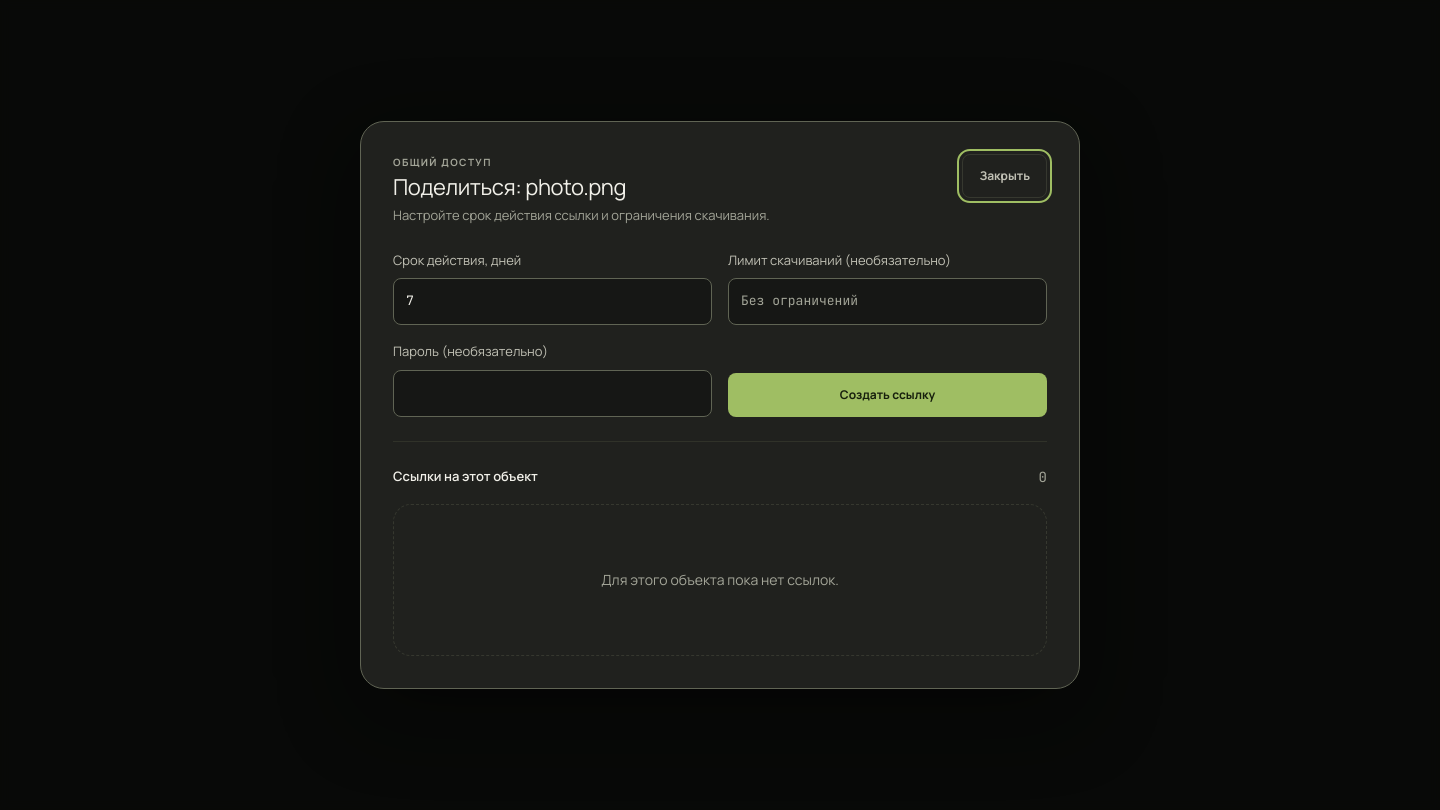
it: ShareDialog › creates a protected file share with exact policy fields and never renders the password
Expected: the text "Для этого объекта пока нет ссылок." is shown, [393,504,1047,656]
Replace the text in the number field labelled "Срок действия, дней" with "30" at (552, 302), box [393,278,712,325]
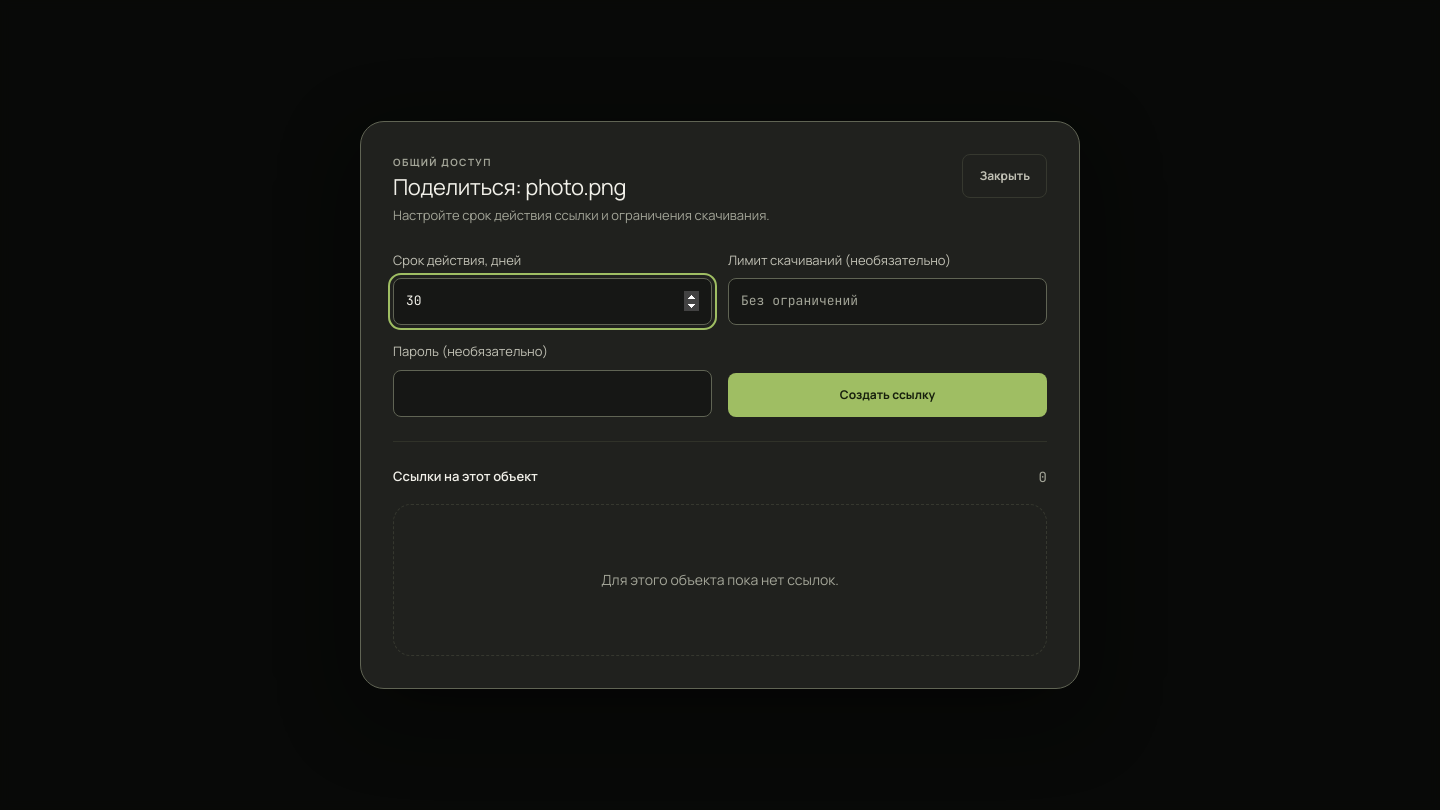
Type "4" into the number field labelled "Лимит скачиваний (необязательно)" at (888, 302), box [728,278,1047,325]
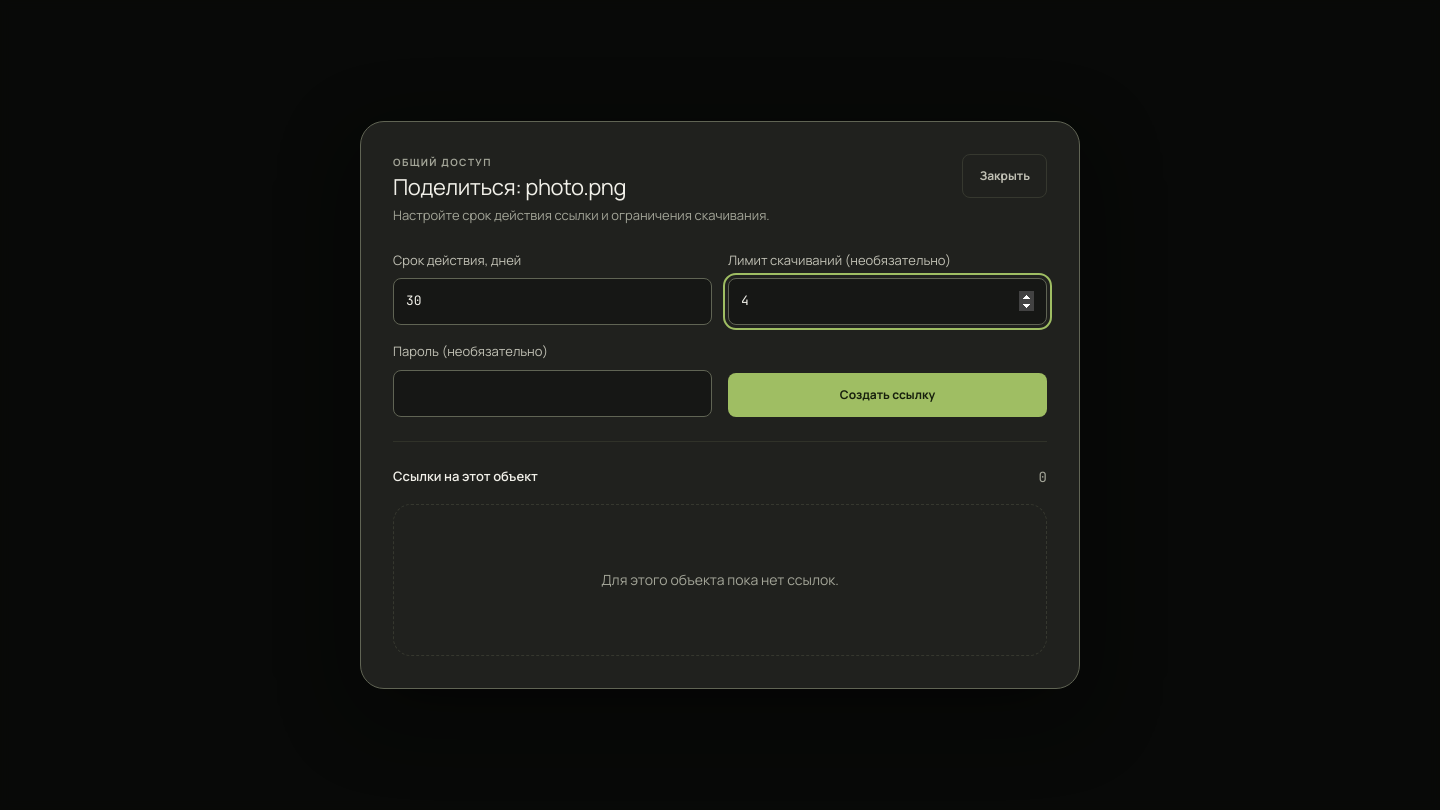
Type "secret phrase" into the password field labelled "Пароль (необязательно)" at (552, 393), box [393,370,712,417]
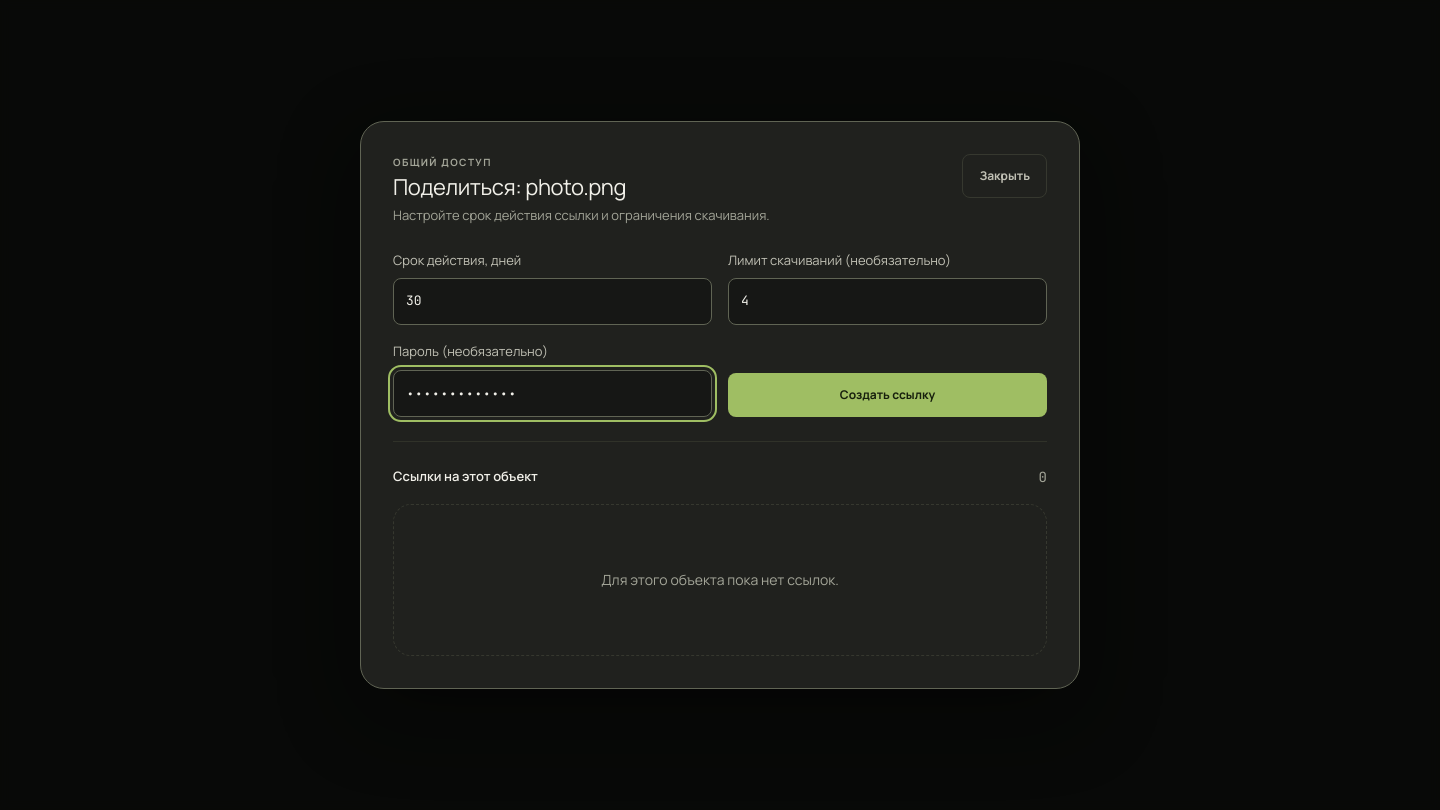
Click the button "Создать ссылку" at (888, 395), box [728,373,1047,417]
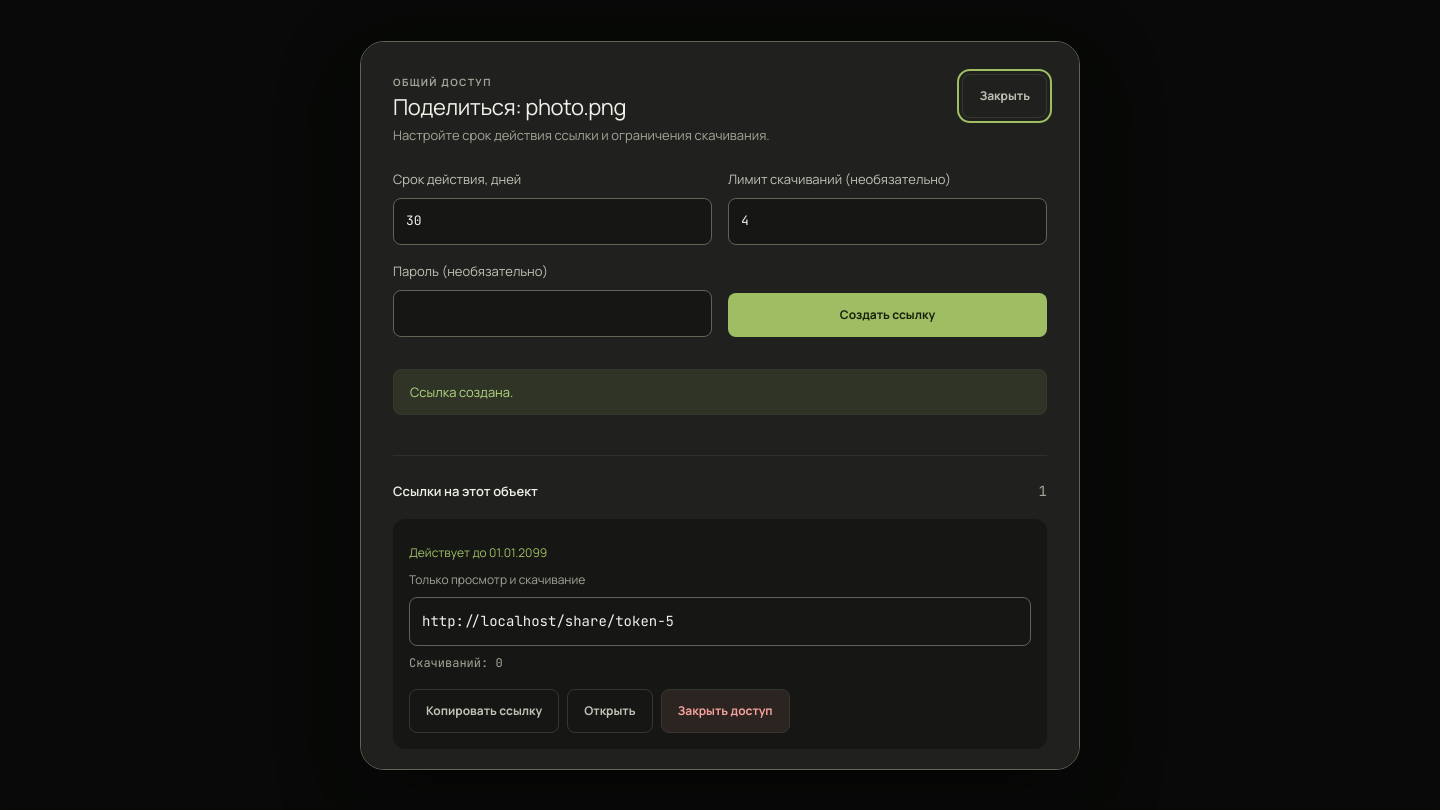
Result: the text "Ссылка создана." is shown at [393,369,1047,416]
Result: the password field labelled "Пароль (необязательно)" is empty at [393,290,712,337]
